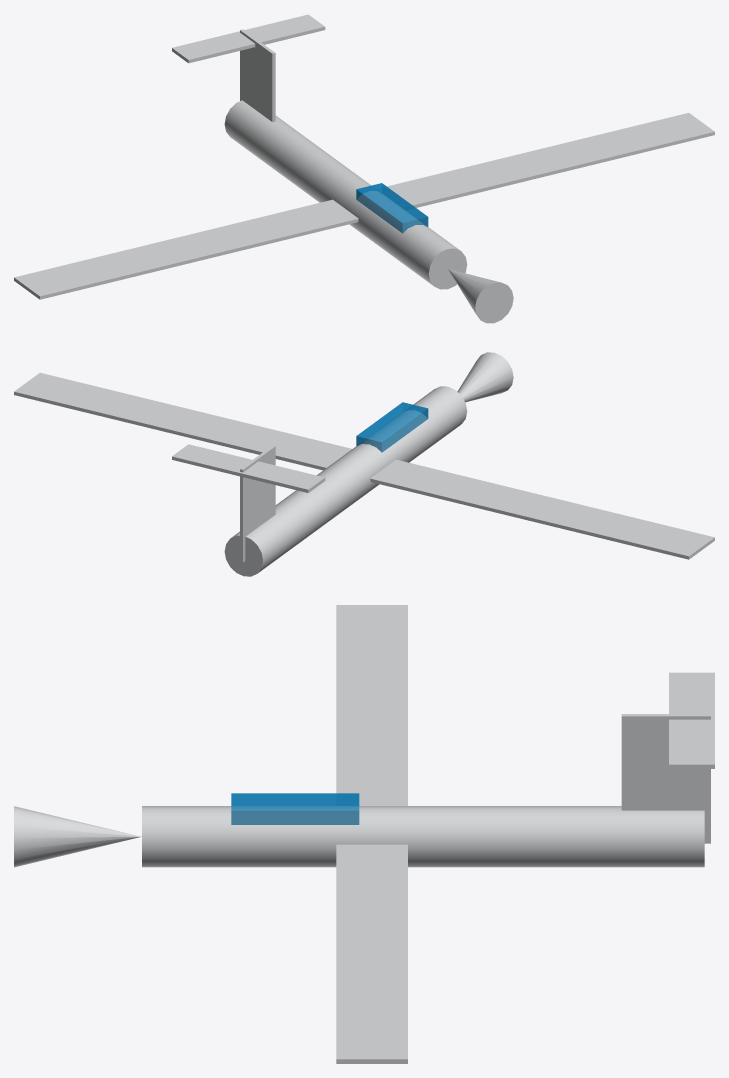
File: glider.glb
3 views of the same model, one above another, from view 1: azimuth 30°, elevation 25°; view 2: azimuth 150°, elevation 25°; view 3: azimuth 270°, elevation 25° (orthographic). The views are drawn at different scales.
Size of the model in its own units: 1 by 0.1536 by 0.6524.
